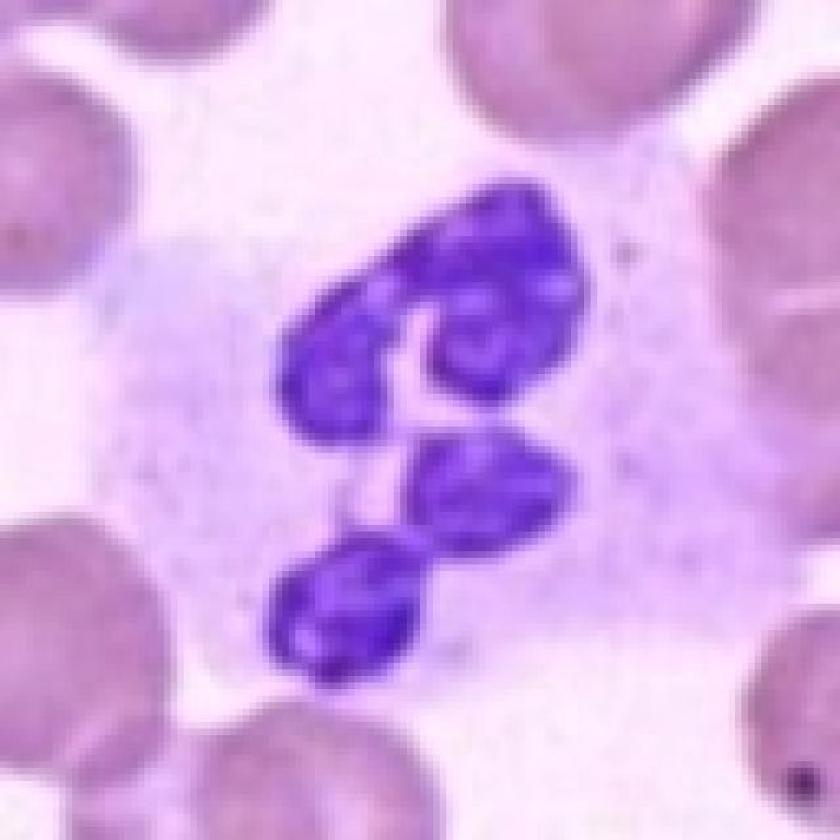neutrophil: (164, 143, 795, 720)
